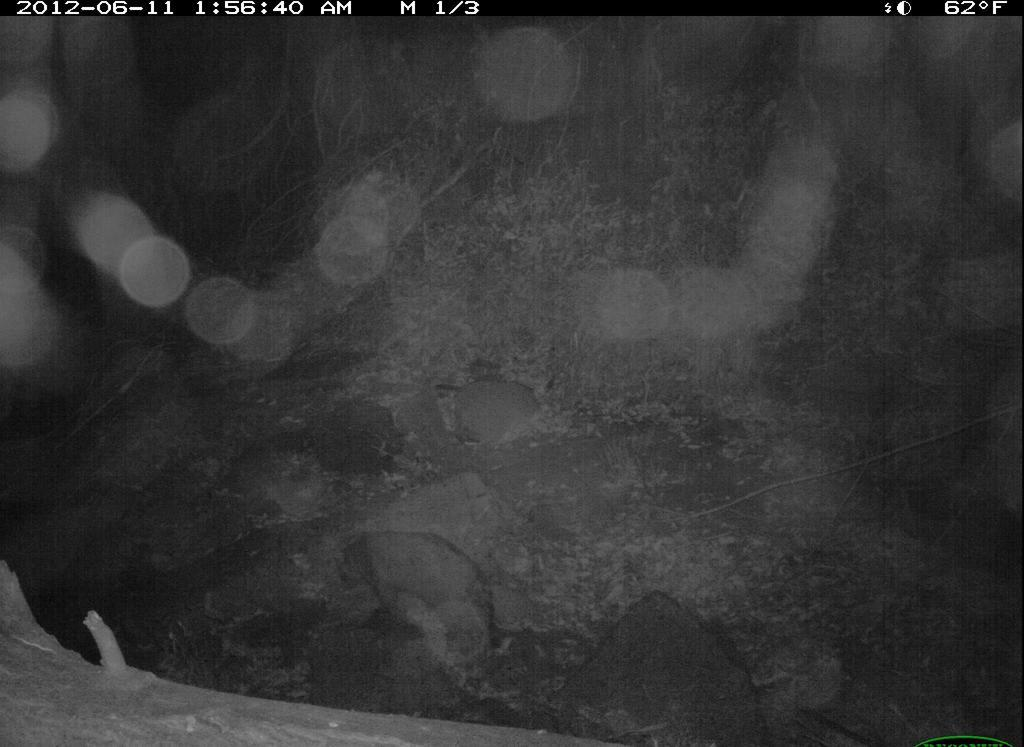raccoon: (326, 514, 515, 661)
